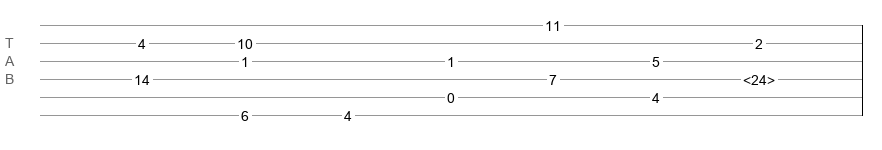0: (447, 90, 455, 100)
1: (241, 54, 249, 64), (447, 54, 455, 64)
10: (237, 36, 253, 46)
11: (545, 18, 561, 28)
14: (134, 72, 150, 82)
2: (755, 36, 763, 46)
4: (138, 36, 146, 46), (344, 108, 352, 118), (652, 90, 660, 100)
5: (652, 54, 660, 64)
6: (241, 108, 249, 118)
7: (549, 72, 557, 82)
harmonic: (743, 72, 775, 82)
